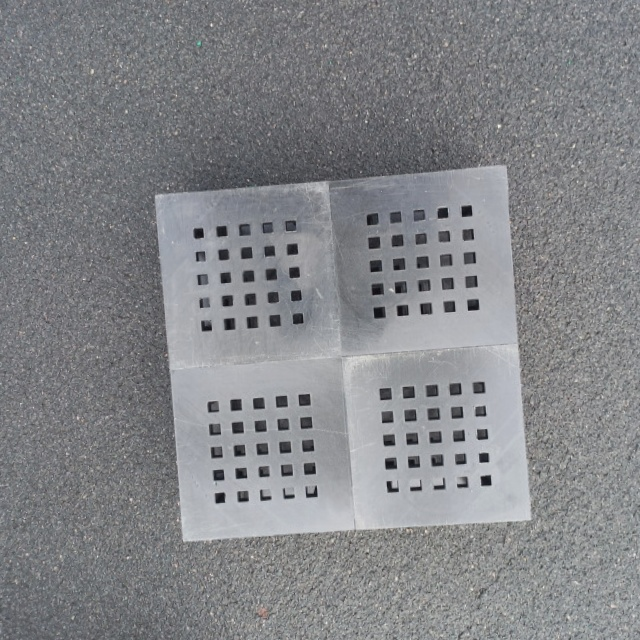pallet: (144, 150, 547, 547)
